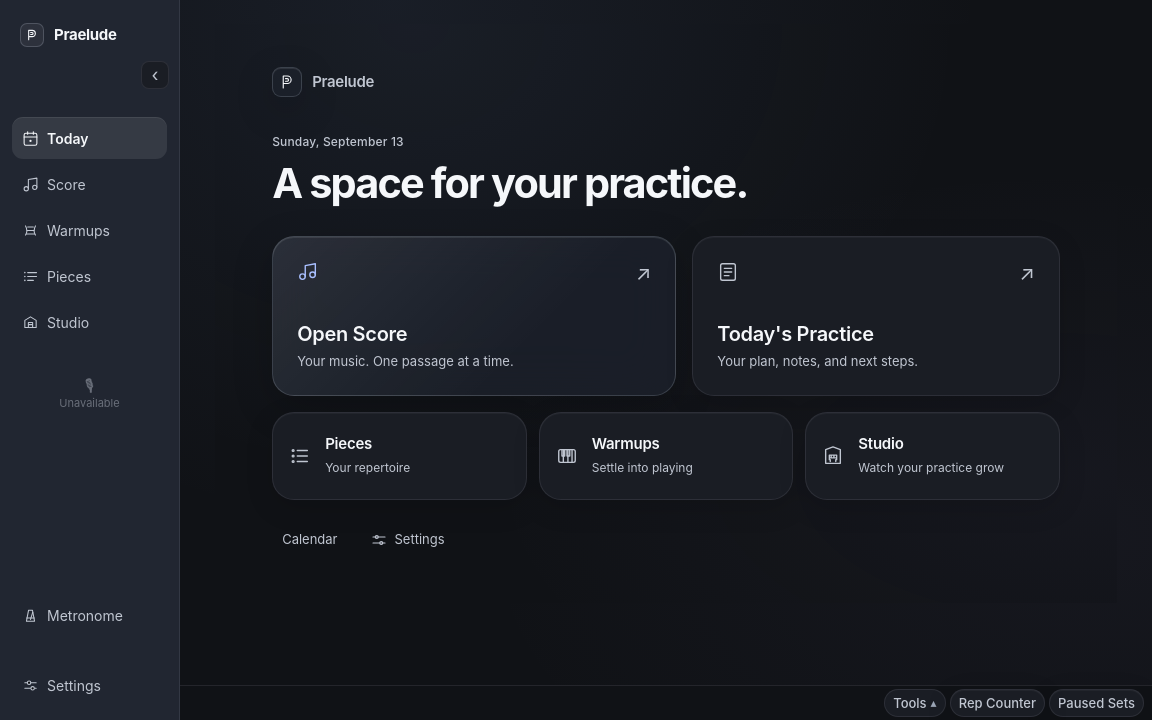
Test: Shell › the rep HUD's collapse state (B82) › never seeds collapsed, regardless of window height — the 520px OS floor always fits the expanded HUD
This screenshot has width=1152, height=720.
Click the tab "Score" at (90, 184), box top-left (12, 163), bottom-right (167, 205)
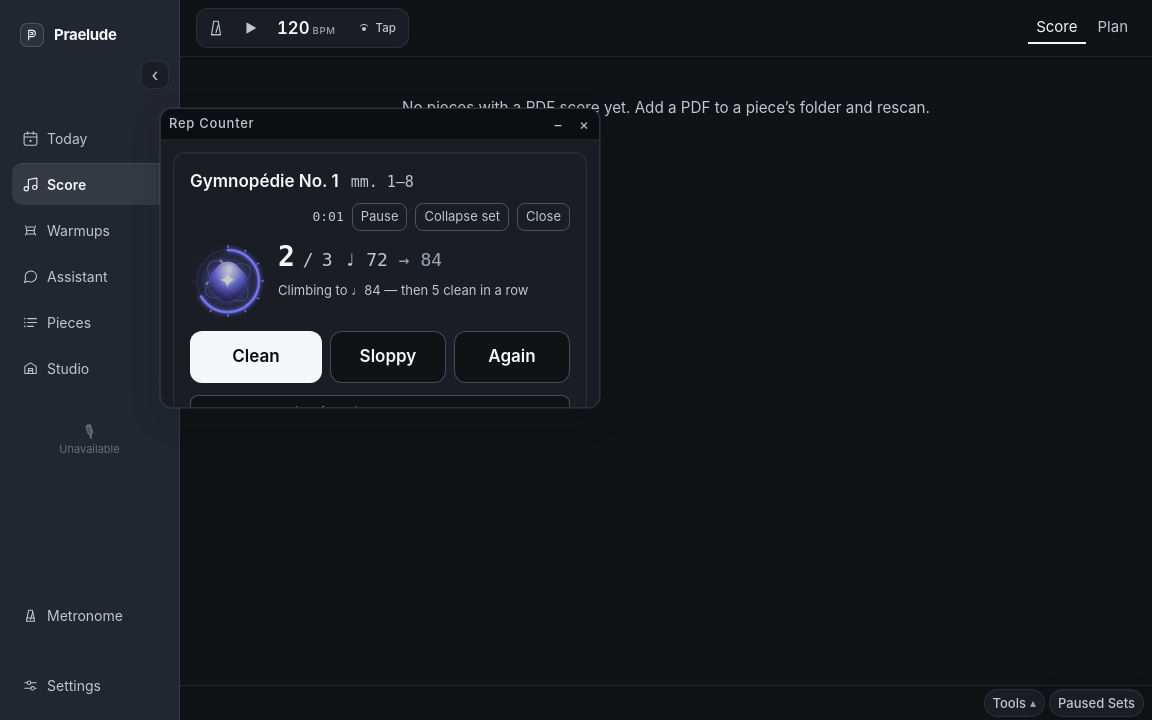
Check: the button "Clean" is shown, box top-left (190, 330), bottom-right (322, 382)
